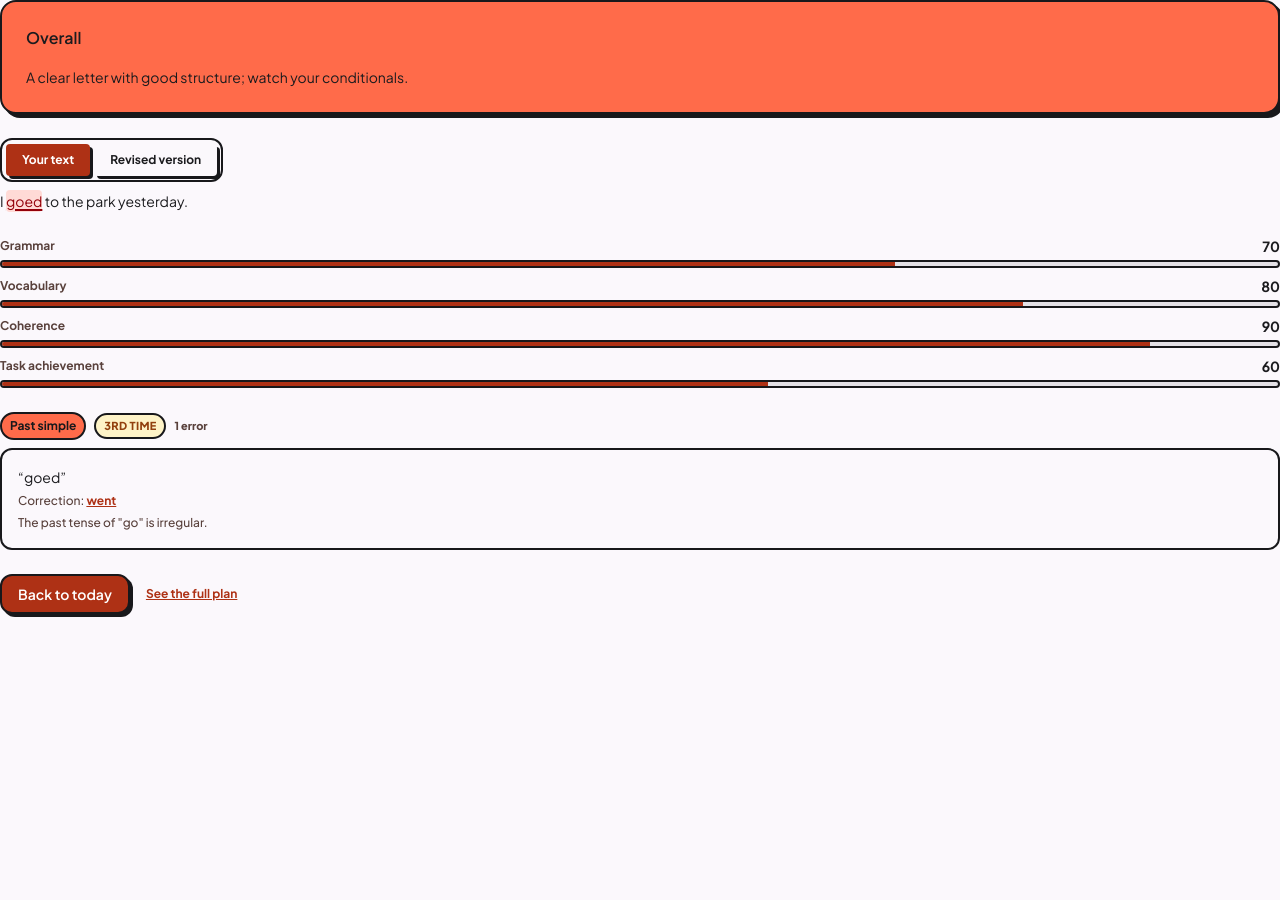
Test: WritingResult › a_highlight_reveals_tag_correction_and_explanation_on_click_and_hover
The image size is (1280, 900).
Click the button with aria-label "goed — Past simple" at [24, 201], box [6,190,42,212]
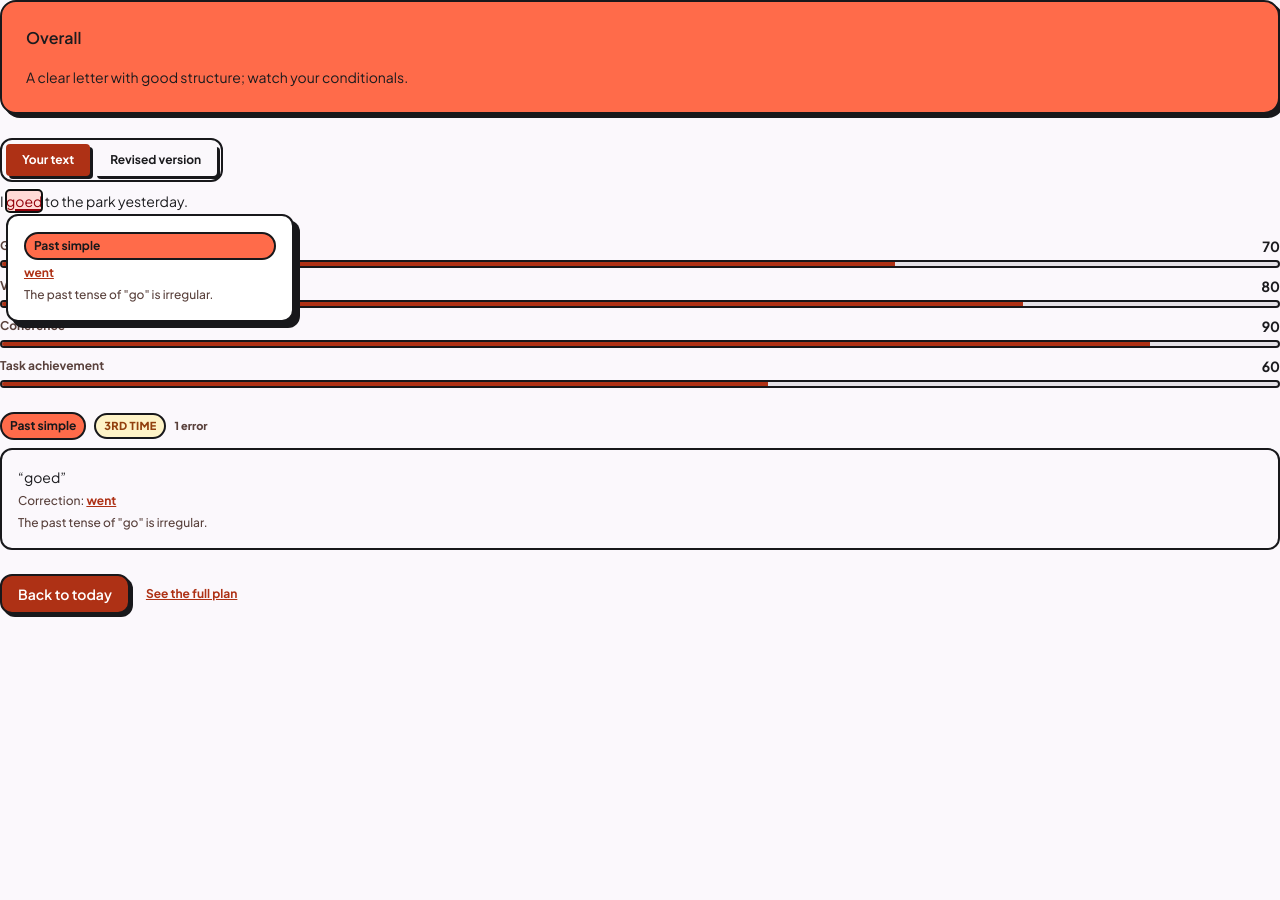
Expected: the text "went" below "to the park yesterday." is shown, [24,265,54,280]
Expected: the text "The past tense of \"go\" is irregular." below "to the park yesterday." is shown, [24,287,214,302]
Press Escape
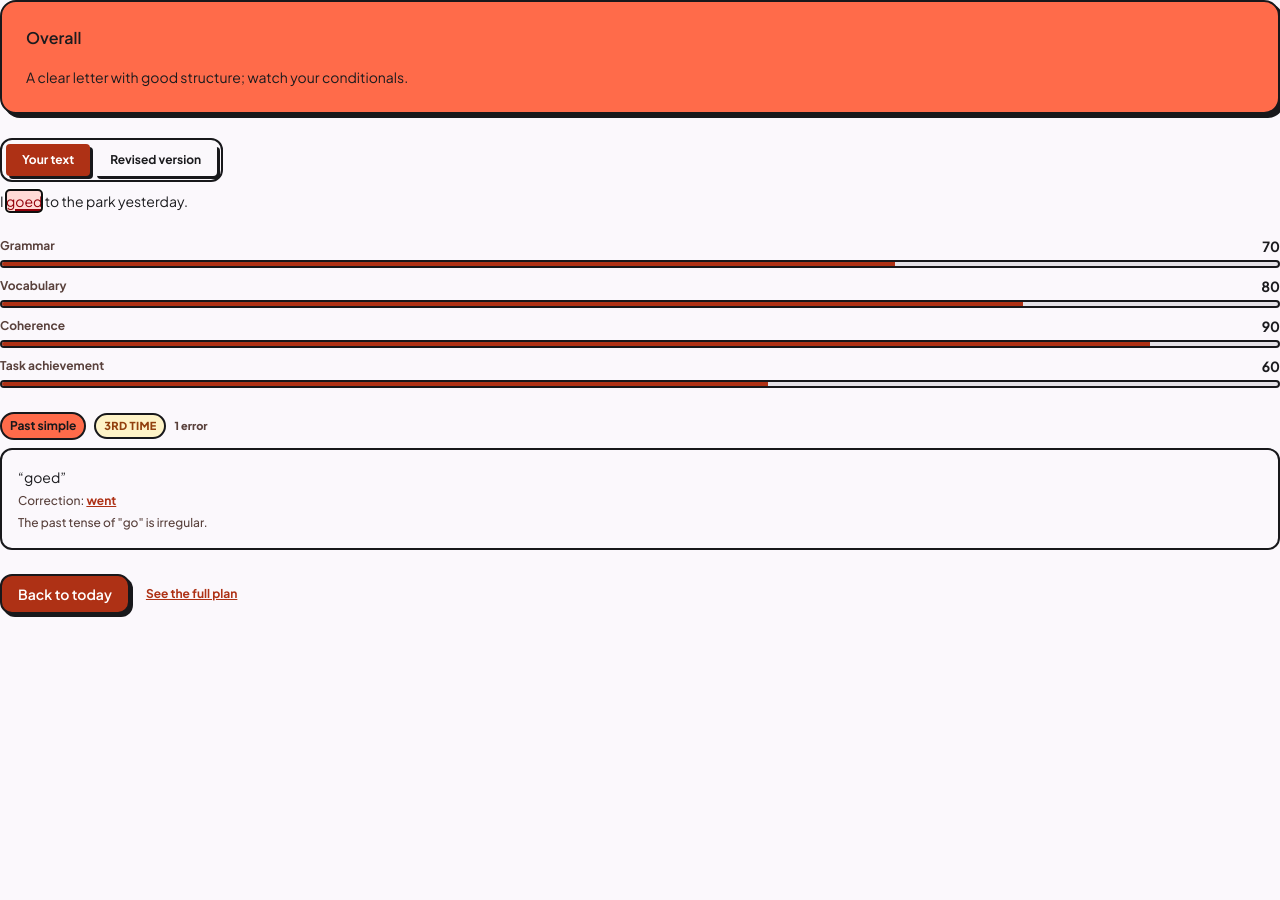
Expected: the dialog is gone
Hover over the button with aria-label "goed — Past simple" at [24, 201], box [6,190,42,212]
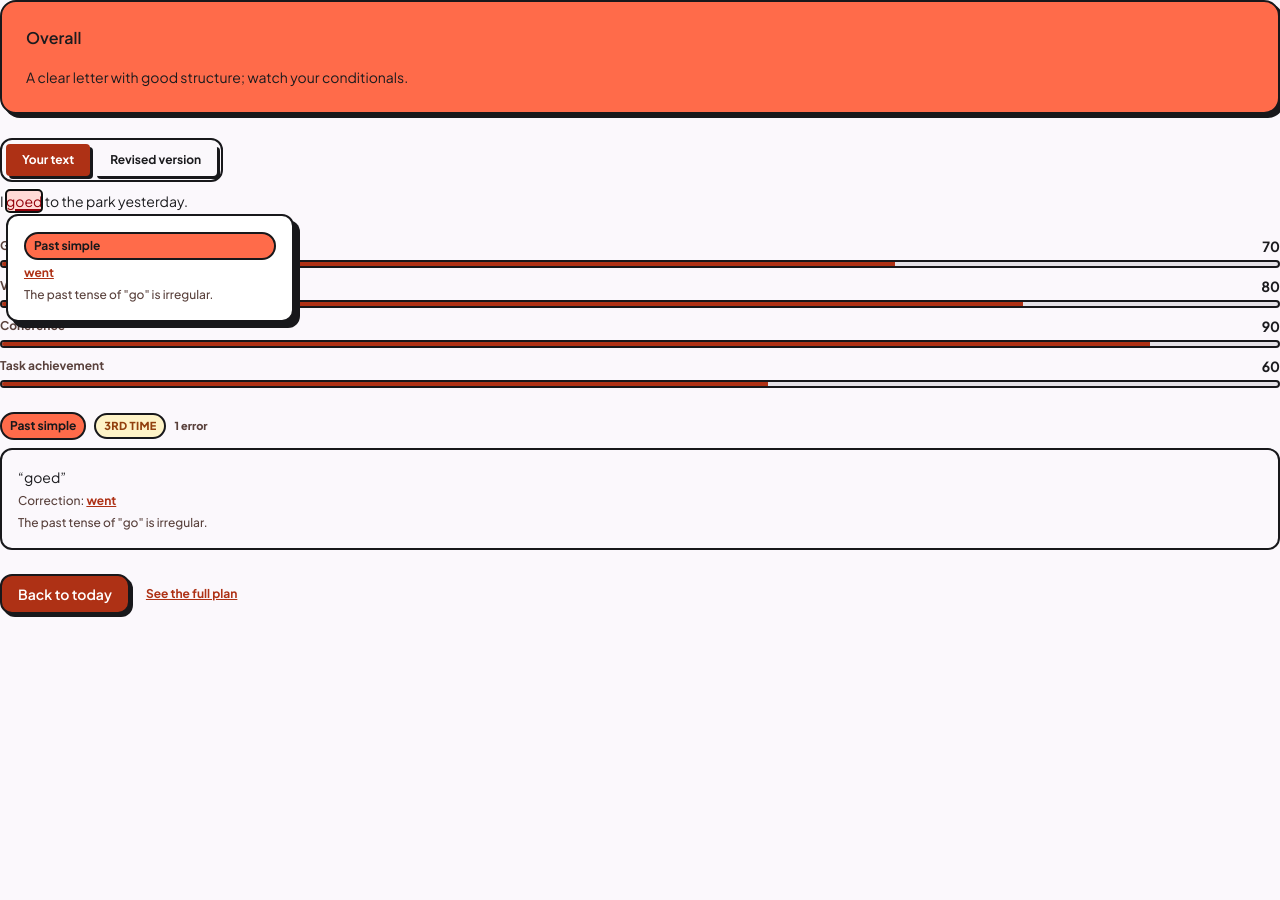
Expected: the dialog "Past simple" is shown, [6,214,294,322]
